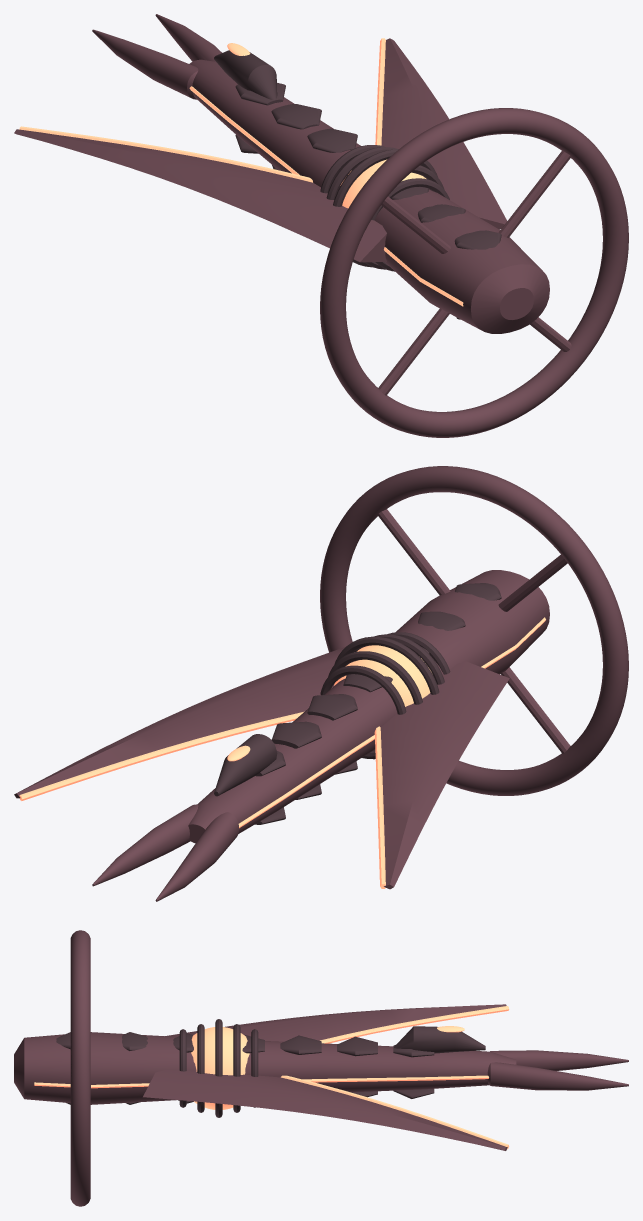
The model's file is alien_fragata.gltf.
3 views of the same model, one above another, from view 1: azimuth 30°, elevation 25°; view 2: azimuth 150°, elevation 25°; view 3: azimuth 270°, elevation 25° (orthographic). The views are drawn at different scales.
Visible parts, largest first — view 1: alien_fragata_aro, alien_fragata_cuerpo, alien_fragata_cuchilla_babor, alien_fragata_cuchilla_estribor, alien_fragata_cuerpo_placas, alien_fragata_cuerpo_costillas, alien_fragata_corazon, alien_fragata_filo_babor, alien_fragata_cuerpo_vetas, alien_fragata_filo_estribor, alien_fragata_nucleo; view 2: alien_fragata_aro, alien_fragata_cuerpo, alien_fragata_cuchilla_babor, alien_fragata_cuchilla_estribor, alien_fragata_cuerpo_placas, alien_fragata_cuerpo_costillas, alien_fragata_filo_estribor, alien_fragata_corazon, alien_fragata_nucleo, alien_fragata_filo_babor, alien_fragata_cuerpo_vetas; view 3: alien_fragata_cuerpo, alien_fragata_cuchilla_estribor, alien_fragata_aro, alien_fragata_cuchilla_babor, alien_fragata_cuerpo_placas, alien_fragata_cuerpo_costillas, alien_fragata_nucleo, alien_fragata_corazon, alien_fragata_cuerpo_vetas, alien_fragata_filo_babor, alien_fragata_filo_estribor.
Boxes of the visible parts, box(x1,y1,x2,y2) form: alien_fragata_aro: box(320, 108, 628, 437); alien_fragata_cuerpo: box(92, 14, 549, 333); alien_fragata_cuchilla_babor: box(14, 129, 386, 262); alien_fragata_cuchilla_estribor: box(381, 38, 507, 229); alien_fragata_cuerpo_placas: box(235, 83, 501, 319); alien_fragata_cuerpo_costillas: box(320, 145, 449, 271); alien_fragata_corazon: box(214, 50, 277, 103); alien_fragata_filo_babor: box(19, 126, 312, 182); alien_fragata_cuerpo_vetas: box(189, 86, 463, 306); alien_fragata_filo_estribor: box(375, 38, 385, 145); alien_fragata_nucleo: box(340, 159, 426, 208); alien_fragata_aro: box(320, 466, 628, 795); alien_fragata_cuerpo: box(92, 570, 549, 901); alien_fragata_cuchilla_babor: box(380, 661, 509, 889); alien_fragata_cuchilla_estribor: box(14, 647, 354, 798); alien_fragata_cuerpo_placas: box(255, 583, 501, 824); alien_fragata_cuerpo_costillas: box(320, 632, 450, 759); alien_fragata_filo_estribor: box(19, 711, 304, 800); alien_fragata_corazon: box(214, 734, 277, 796); alien_fragata_nucleo: box(334, 645, 431, 706); alien_fragata_filo_babor: box(374, 726, 385, 888); alien_fragata_cuerpo_vetas: box(238, 617, 545, 828); alien_fragata_cuerpo: box(14, 1032, 628, 1104); alien_fragata_cuchilla_estribor: box(143, 1070, 507, 1150); alien_fragata_aro: box(70, 930, 90, 1206); alien_fragata_cuchilla_babor: box(165, 1004, 506, 1041); alien_fragata_cuerpo_placas: box(56, 1032, 434, 1104); alien_fragata_cuerpo_costillas: box(179, 1019, 258, 1117); alien_fragata_nucleo: box(191, 1027, 249, 1109); alien_fragata_corazon: box(394, 1026, 485, 1053); alien_fragata_cuerpo_vetas: box(34, 1075, 488, 1088); alien_fragata_filo_babor: box(320, 1006, 509, 1043); alien_fragata_filo_estribor: box(281, 1075, 509, 1149).
Size of the model in its own units: 672 by 540 by 1200.
